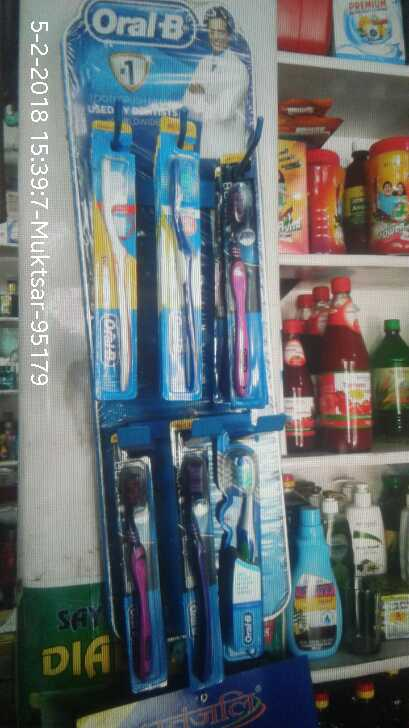oralb: (91, 149, 145, 396), (108, 458, 164, 691), (170, 442, 219, 690), (222, 439, 274, 669), (161, 152, 209, 392), (219, 169, 269, 399)
